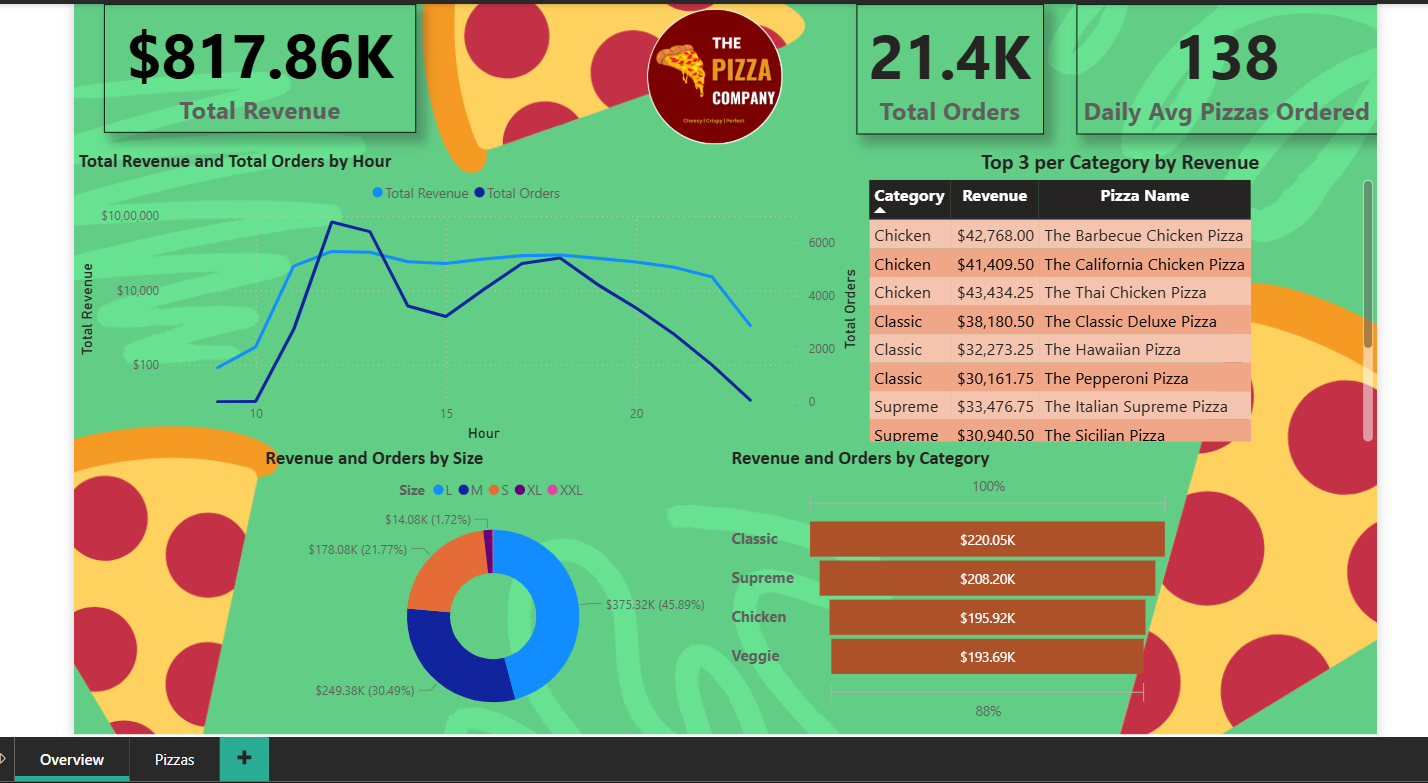

The page's visual inventory and layout, read from the dashboard file:
{"tool":"powerbi","page":{"name":"Overview","canvas":[1280,720],"ordinal":0},"visuals":[{"type":"card","fields":{"Values":["Sum(hourlySales.totalSales)"]},"box":[29.4,0,306.8,126.4],"z":0},{"type":"card","fields":{"Values":["Sum(totalOrders.totalOrders)"]},"box":[768.1,0,184.1,127.6],"z":1000},{"type":"donutChart","fields":{"Category":["hourlySales.size"],"Y":["Sum(hourlySales.totalSales)"]},"box":[182.8,434.4,457.7,281],"z":2000},{"type":"lineChart","fields":{"Category":["hourlySales.dayHour"],"Y":["Sum(hourlySales.totalSales)"],"Y2":["Sum(hourlySales.totalOrders)"]},"box":[0,142.3,774.2,292],"z":3000},{"type":"funnel","fields":{"Category":["hourlySales.category"],"Y":["Sum(hourlySales.totalSales)"]},"box":[640.5,434.4,440.5,274.8],"z":4000},{"type":"card","fields":{"Values":["Sum(dailyAvgOrders.dayOrdersAvg)"]},"box":[984.1,0,295.7,127.6],"z":5000},{"type":"tableEx","title":"Top 3 per Category by Revenue","fields":{"Values":["top3PerCategory.category","Sum(top3PerCategory.sales)","top3PerCategory.name"]},"box":[774.2,142.3,505.5,292],"z":6000},{"type":"image","box":[554.6,0,148.5,142.3],"z":7000}]}

Visuals, with their boxes on the page's 1280x720 design canvas (x1, y1, x2, y2). These are canvas units, not pixel positions in the 1428x783 screenshot, which may show the page scaled, cropped or inside an application window:
card - Sum(hourlySales.totalSales): locate(29, 0, 336, 126)
card - Sum(totalOrders.totalOrders): locate(768, 0, 952, 128)
donutChart - hourlySales.size x Sum(hourlySales.totalSales): locate(183, 434, 640, 715)
lineChart - hourlySales.dayHour x Sum(hourlySales.totalSales): locate(0, 142, 774, 434)
funnel - hourlySales.category x Sum(hourlySales.totalSales): locate(640, 434, 1081, 709)
card - Sum(dailyAvgOrders.dayOrdersAvg): locate(984, 0, 1280, 128)
"Top 3 per Category by Revenue" tableEx: locate(774, 142, 1280, 434)
image: locate(555, 0, 703, 142)
